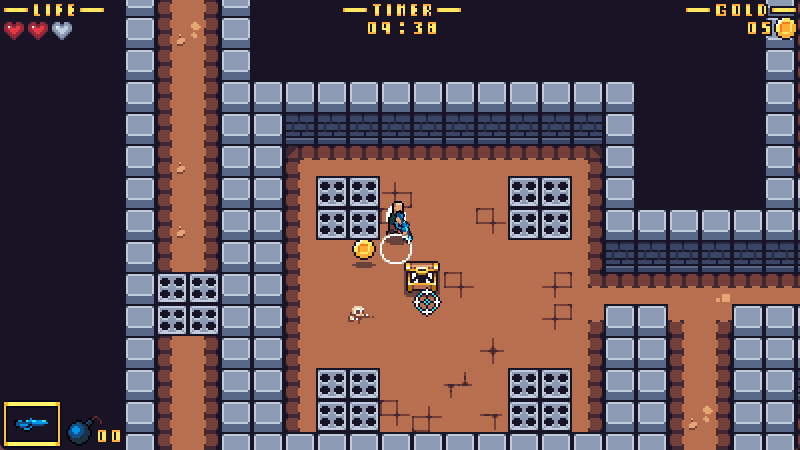aim: (413, 289, 440, 316)
gold: (353, 238, 375, 261)
player: (385, 202, 413, 241)
trap_off: (508, 368, 573, 432), (508, 176, 572, 239), (156, 272, 220, 335), (316, 176, 378, 240), (318, 369, 379, 430)
treasury_monster: (406, 260, 439, 295)
